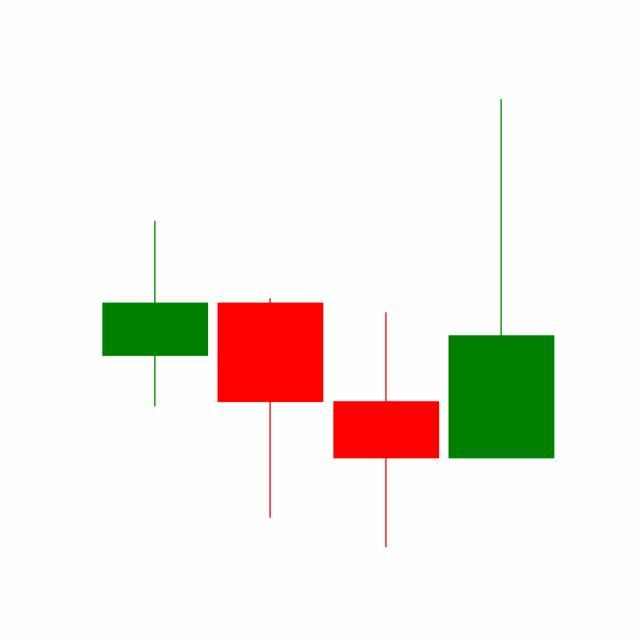Spinning Top: (329, 311, 445, 551)
